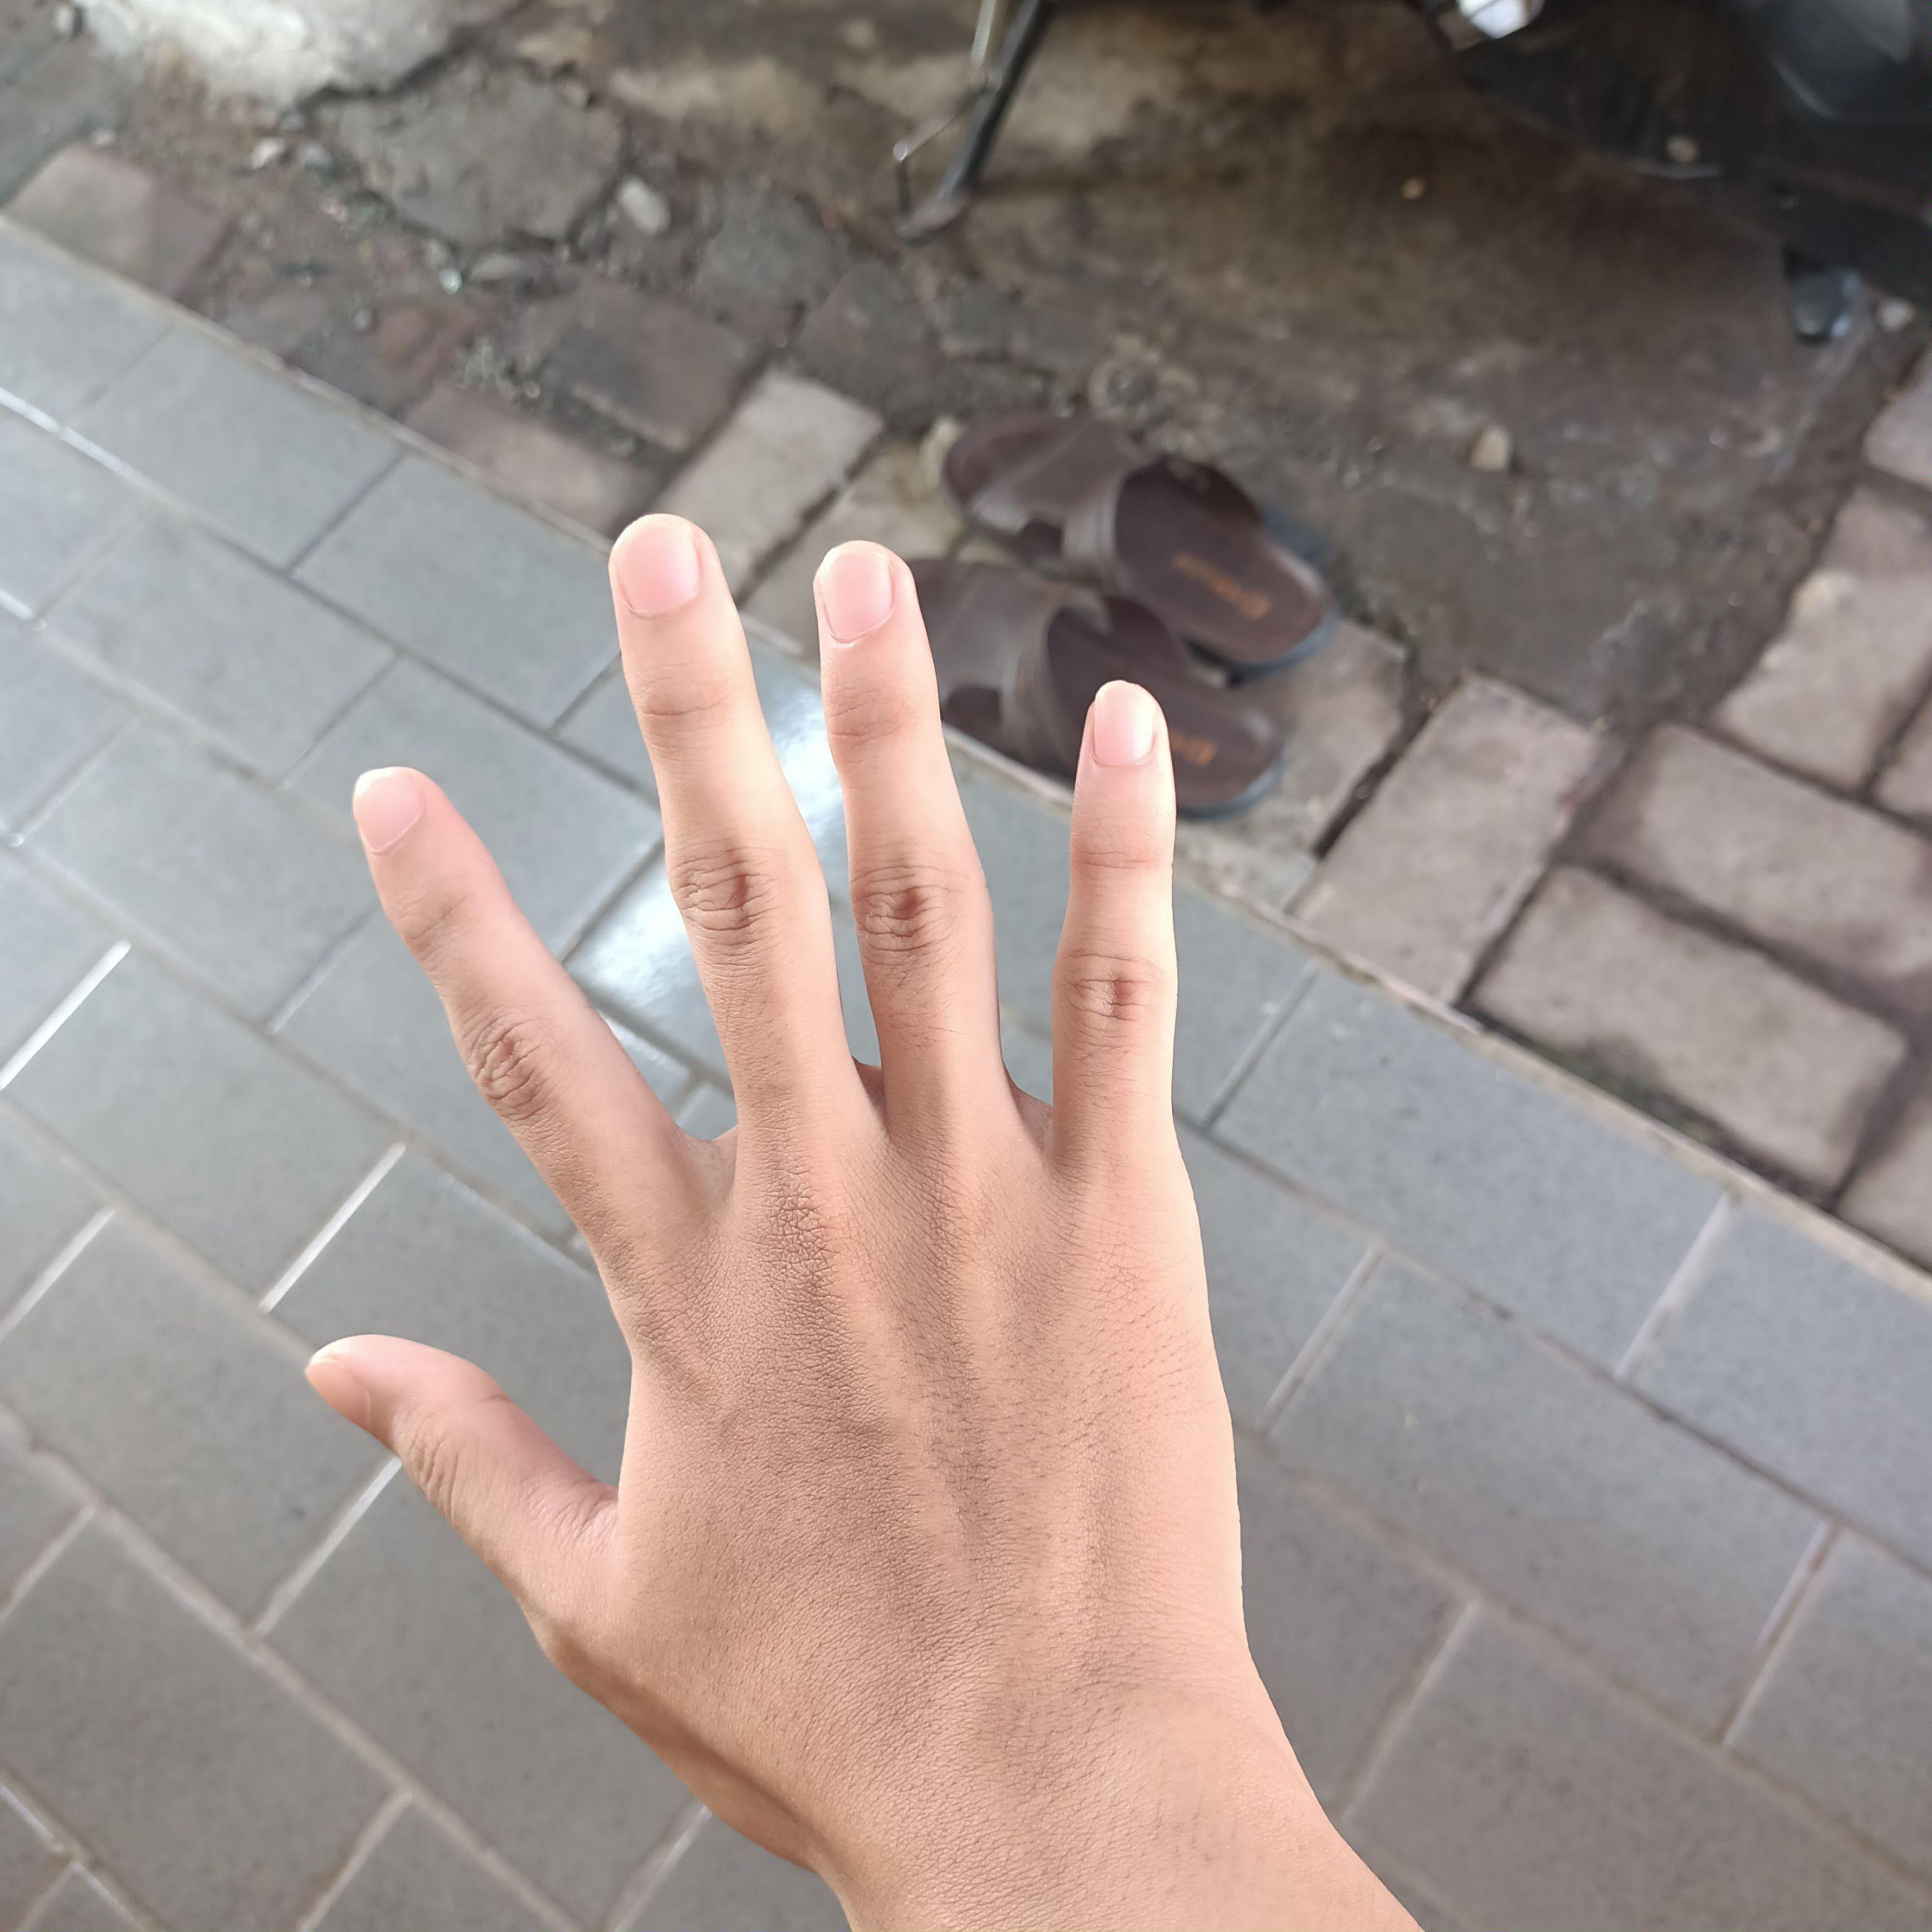paper: (297, 511, 1292, 1868)
